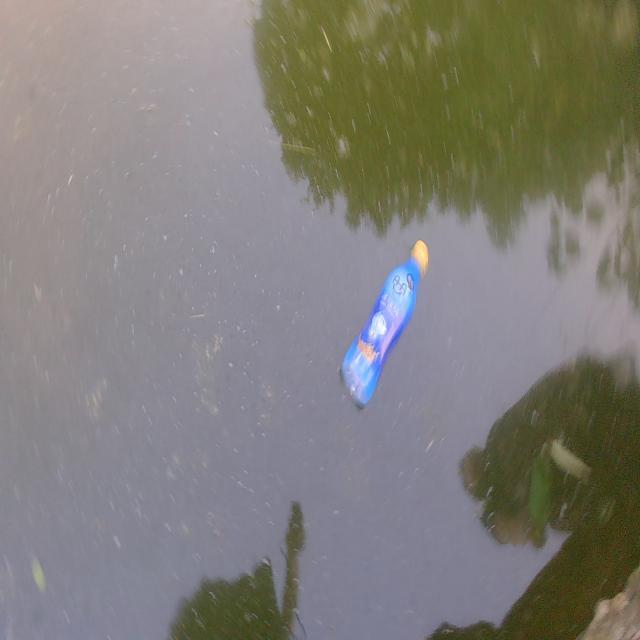bottle: (329, 208, 444, 439)
